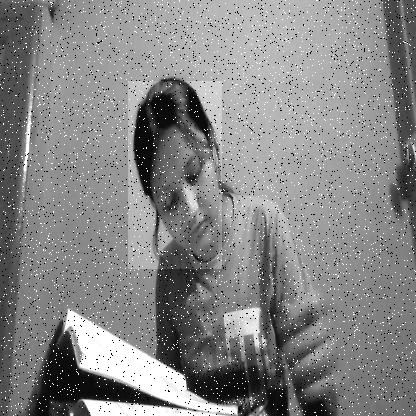Distracted: (128, 82, 222, 270)
